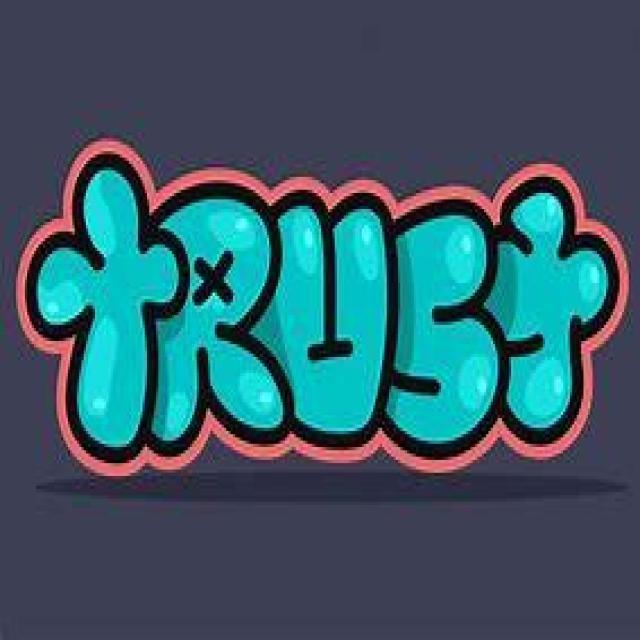nonspitting: (14, 132, 630, 482)
